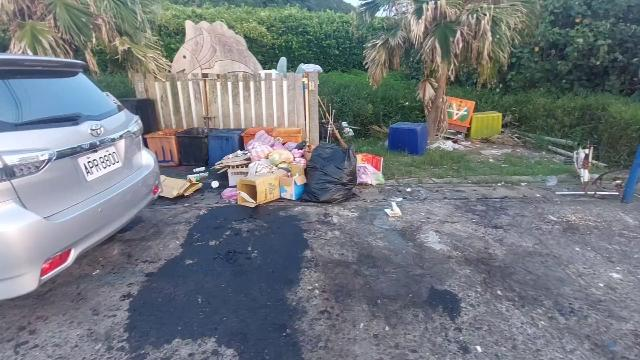pollute: (143, 125, 385, 210), (431, 94, 502, 150), (388, 120, 428, 156), (571, 140, 595, 182), (384, 201, 403, 217)
